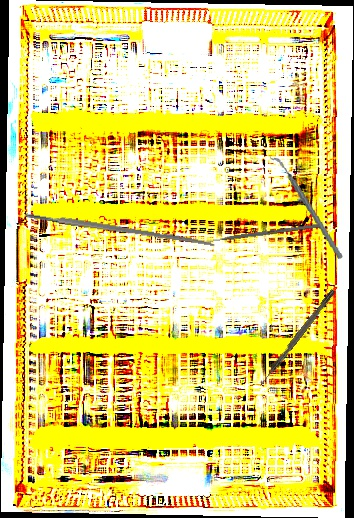Chopper: (269, 147, 344, 268)
Hook Surgical: (257, 288, 337, 388)
Pusher: (198, 223, 320, 245)
Scalpel Handle: (22, 209, 216, 249)
